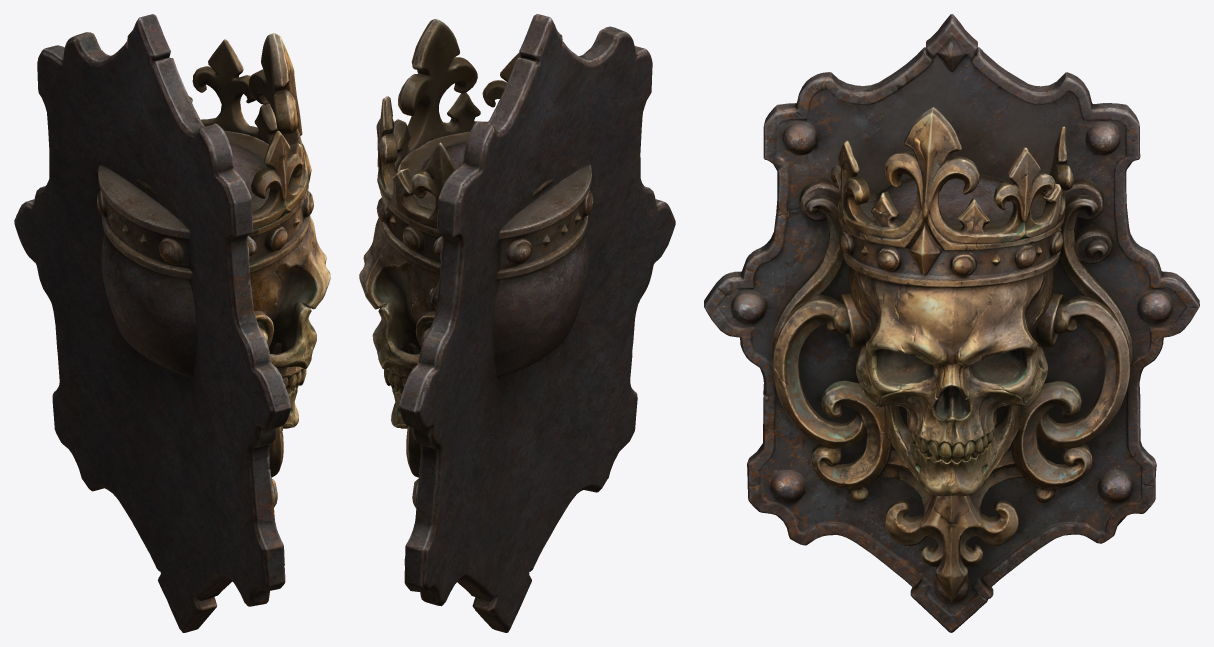
The picture shows the model from 3 angles, left to right: view 1: azimuth 30°, elevation 25°; view 2: azimuth 150°, elevation 25°; view 3: azimuth 270°, elevation 25°; orthographic projection. The views are drawn at different scales.
Parts seen in each view (by area): view 1: tripo_node_95f85c1a-e9a6-4a13-9ad4-a755f27d1d4c; view 2: tripo_node_95f85c1a-e9a6-4a13-9ad4-a755f27d1d4c; view 3: tripo_node_95f85c1a-e9a6-4a13-9ad4-a755f27d1d4c.
Boxes of the visible parts, <box> form: tripo_node_95f85c1a-e9a6-4a13-9ad4-a755f27d1d4c: <box>14,14,330,632</box>; tripo_node_95f85c1a-e9a6-4a13-9ad4-a755f27d1d4c: <box>359,14,675,632</box>; tripo_node_95f85c1a-e9a6-4a13-9ad4-a755f27d1d4c: <box>704,14,1199,632</box>.
Size of the model in its own units: 0.3152 by 0.9783 by 0.7404.
1 material, 1 textured.
